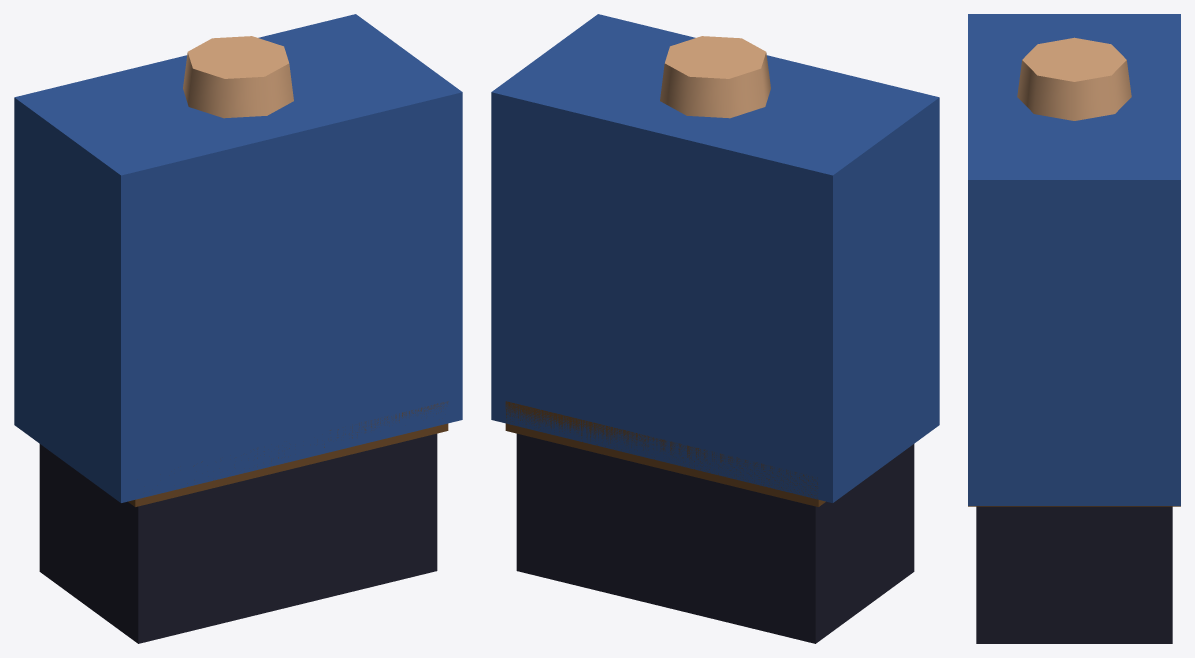
The model's file is PCaminante_Torso.obj.
3 views of the same model, side by side, from view 1: azimuth 30°, elevation 25°; view 2: azimuth 150°, elevation 25°; view 3: azimuth 270°, elevation 25° (orthographic).
Parts seen in each view (by area): view 1: Torso; view 2: Torso; view 3: Torso.
Part boxes in pixels (bbox=[...]): Torso: bbox=[14, 14, 462, 643]; Torso: bbox=[491, 14, 939, 643]; Torso: bbox=[968, 14, 1180, 643].
Bounding box in the file's own units: 0.24 × 0.345 × 0.13.
1 material, 1 textured.
